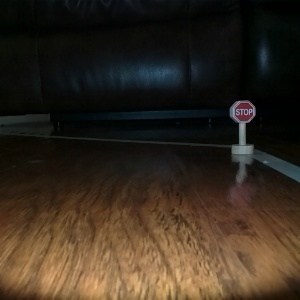stop sign: (225, 98, 258, 159)
